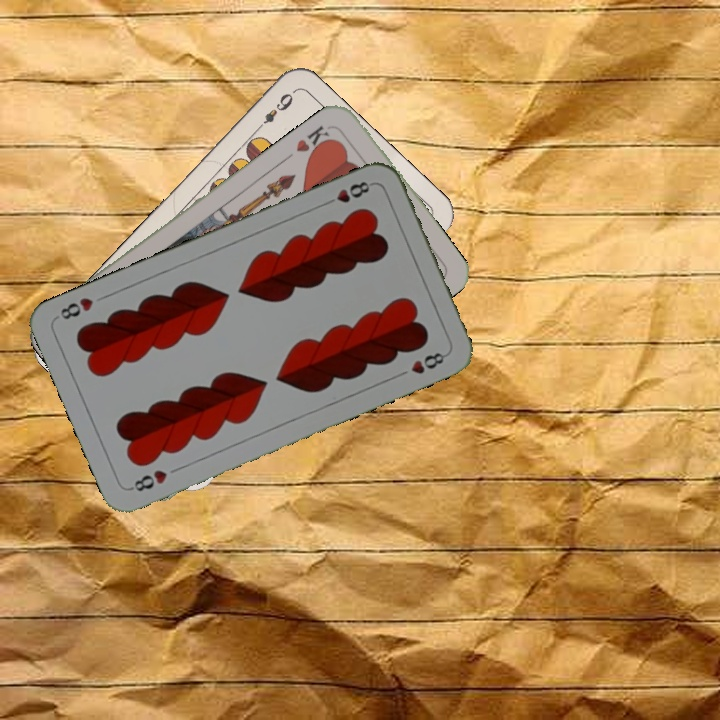E9: (251, 89, 296, 134)
H8: (320, 177, 376, 209), (126, 465, 170, 494)
HK: (292, 120, 337, 160)
